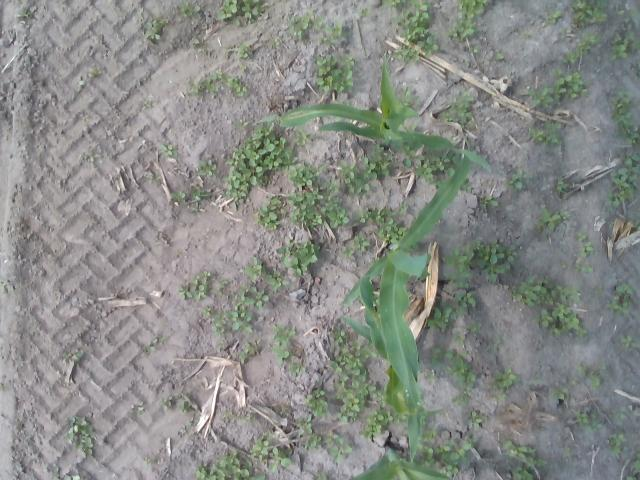Maize: (342, 144, 474, 466), (253, 52, 493, 172), (341, 275, 449, 414), (346, 439, 453, 480)
Weeds: (224, 122, 296, 202), (330, 337, 378, 424), (288, 164, 326, 228), (512, 273, 580, 307), (464, 240, 516, 282), (197, 450, 266, 480), (273, 240, 322, 274), (605, 166, 640, 208), (338, 157, 378, 192), (551, 301, 586, 338), (66, 414, 95, 457), (610, 88, 634, 138), (502, 440, 546, 466), (553, 69, 588, 100), (254, 194, 284, 230), (359, 408, 392, 438), (178, 271, 211, 300), (436, 440, 476, 463), (398, 10, 428, 40), (606, 282, 634, 314), (448, 356, 476, 388), (421, 155, 450, 182), (520, 87, 553, 109), (370, 145, 392, 176), (426, 305, 452, 331), (268, 447, 294, 473), (306, 390, 330, 418), (535, 207, 560, 233), (568, 0, 591, 27), (286, 14, 314, 35), (451, 18, 477, 40), (312, 54, 338, 76), (494, 366, 521, 387), (331, 68, 354, 92), (391, 44, 420, 63), (449, 90, 473, 112), (508, 168, 532, 190), (234, 285, 255, 310), (243, 0, 265, 23), (329, 438, 352, 460), (268, 268, 290, 291), (230, 310, 253, 332), (273, 324, 297, 345), (444, 248, 464, 273), (456, 290, 476, 314), (459, 0, 487, 17), (544, 120, 563, 145), (325, 181, 342, 208), (250, 436, 269, 460), (244, 257, 262, 282), (418, 36, 439, 57), (576, 33, 598, 53), (216, 0, 238, 19), (534, 308, 554, 328), (270, 346, 290, 366), (62, 344, 84, 362), (326, 210, 348, 228), (376, 216, 394, 238), (326, 22, 346, 41), (468, 410, 487, 430), (410, 0, 431, 18), (404, 140, 418, 166), (228, 77, 247, 96), (212, 310, 227, 333), (251, 286, 268, 306), (444, 111, 472, 123), (390, 222, 406, 243), (293, 128, 314, 144), (624, 17, 637, 42), (512, 466, 535, 480), (333, 324, 349, 344), (199, 159, 216, 177), (383, 0, 408, 12), (620, 150, 640, 165), (288, 362, 308, 377), (486, 335, 502, 353), (236, 42, 252, 59), (418, 444, 434, 460), (305, 434, 322, 449), (178, 392, 192, 410), (147, 22, 161, 40), (182, 2, 200, 16), (186, 78, 200, 96), (613, 406, 628, 422), (157, 396, 173, 411), (354, 235, 370, 250), (85, 148, 102, 162), (590, 9, 608, 22), (449, 276, 470, 287), (430, 347, 442, 366), (588, 371, 600, 390), (316, 76, 332, 90), (562, 51, 578, 65), (556, 176, 570, 192), (442, 462, 458, 476), (243, 341, 260, 354), (215, 279, 228, 296), (342, 53, 356, 68), (612, 44, 626, 59), (580, 242, 594, 257), (421, 427, 436, 441), (368, 206, 382, 221), (622, 336, 638, 349), (451, 394, 468, 406), (610, 434, 627, 446), (480, 194, 498, 205), (202, 76, 216, 90), (324, 429, 338, 443), (371, 392, 385, 406), (548, 9, 561, 24), (162, 144, 178, 156), (466, 320, 482, 332), (553, 388, 569, 400), (356, 206, 368, 222), (625, 132, 640, 144), (628, 460, 640, 474), (382, 205, 396, 217), (584, 422, 602, 431), (130, 402, 146, 412), (301, 422, 314, 434), (396, 201, 408, 214), (576, 412, 590, 423), (591, 0, 608, 9), (530, 128, 542, 140), (454, 332, 466, 344), (426, 372, 438, 384), (394, 412, 406, 424), (344, 246, 355, 259), (578, 362, 588, 376), (222, 408, 236, 418), (313, 16, 322, 31), (461, 180, 472, 192), (190, 186, 202, 197), (236, 119, 247, 130), (16, 7, 28, 17), (172, 192, 184, 202), (153, 17, 167, 25), (239, 352, 249, 363), (631, 40, 640, 52), (154, 334, 164, 344), (582, 265, 594, 273), (64, 474, 80, 480), (200, 191, 213, 198), (212, 70, 222, 79), (401, 86, 410, 96), (560, 210, 570, 219), (420, 460, 435, 466), (202, 306, 210, 317), (628, 8, 640, 15), (492, 394, 506, 400), (577, 232, 586, 241), (270, 38, 280, 46), (614, 32, 622, 42), (568, 376, 578, 384), (147, 341, 155, 351), (238, 414, 251, 420), (317, 472, 328, 479), (562, 446, 570, 455), (148, 172, 154, 184), (361, 8, 368, 18), (444, 350, 454, 357), (320, 36, 328, 44), (594, 285, 602, 293), (234, 18, 242, 26), (412, 97, 420, 105), (463, 387, 472, 394), (90, 70, 100, 76), (522, 30, 532, 36), (146, 100, 153, 108), (497, 53, 504, 61), (563, 28, 571, 35), (589, 412, 597, 419), (216, 342, 223, 350), (636, 447, 640, 460), (240, 64, 247, 71), (600, 363, 606, 371), (612, 446, 620, 452), (637, 63, 640, 78), (193, 38, 200, 44), (144, 457, 150, 464), (472, 44, 477, 52), (575, 264, 580, 272), (626, 476, 636, 480), (536, 374, 540, 382), (461, 350, 466, 356), (616, 11, 624, 14), (156, 176, 162, 180)
